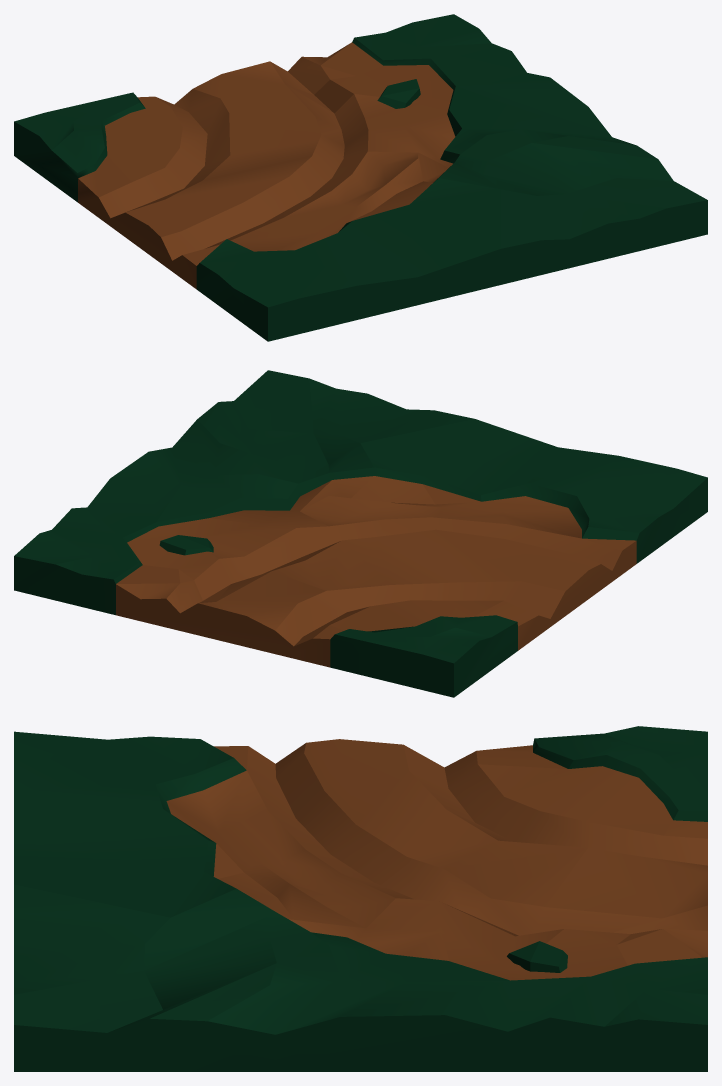
Rendered from Ground_Road_Turn_RB_1.fbx.
3 renders of one model, top to bottom at view 1: azimuth 30°, elevation 25°; view 2: azimuth 150°, elevation 25°; view 3: azimuth 270°, elevation 25°, orthographic. The views are drawn at different scales.
Parts seen in each view (by area): view 1: Ground_Road_Turn_RB_1; view 2: Ground_Road_Turn_RB_1; view 3: Ground_Road_Turn_RB_1.
Part boxes in pixels (x1,y1,x2,y2): Ground_Road_Turn_RB_1: (14,14,707,341); Ground_Road_Turn_RB_1: (14,370,707,697); Ground_Road_Turn_RB_1: (14,726,707,1071).
Bounding box in the file's own units: 147 × 13.54 × 147.
